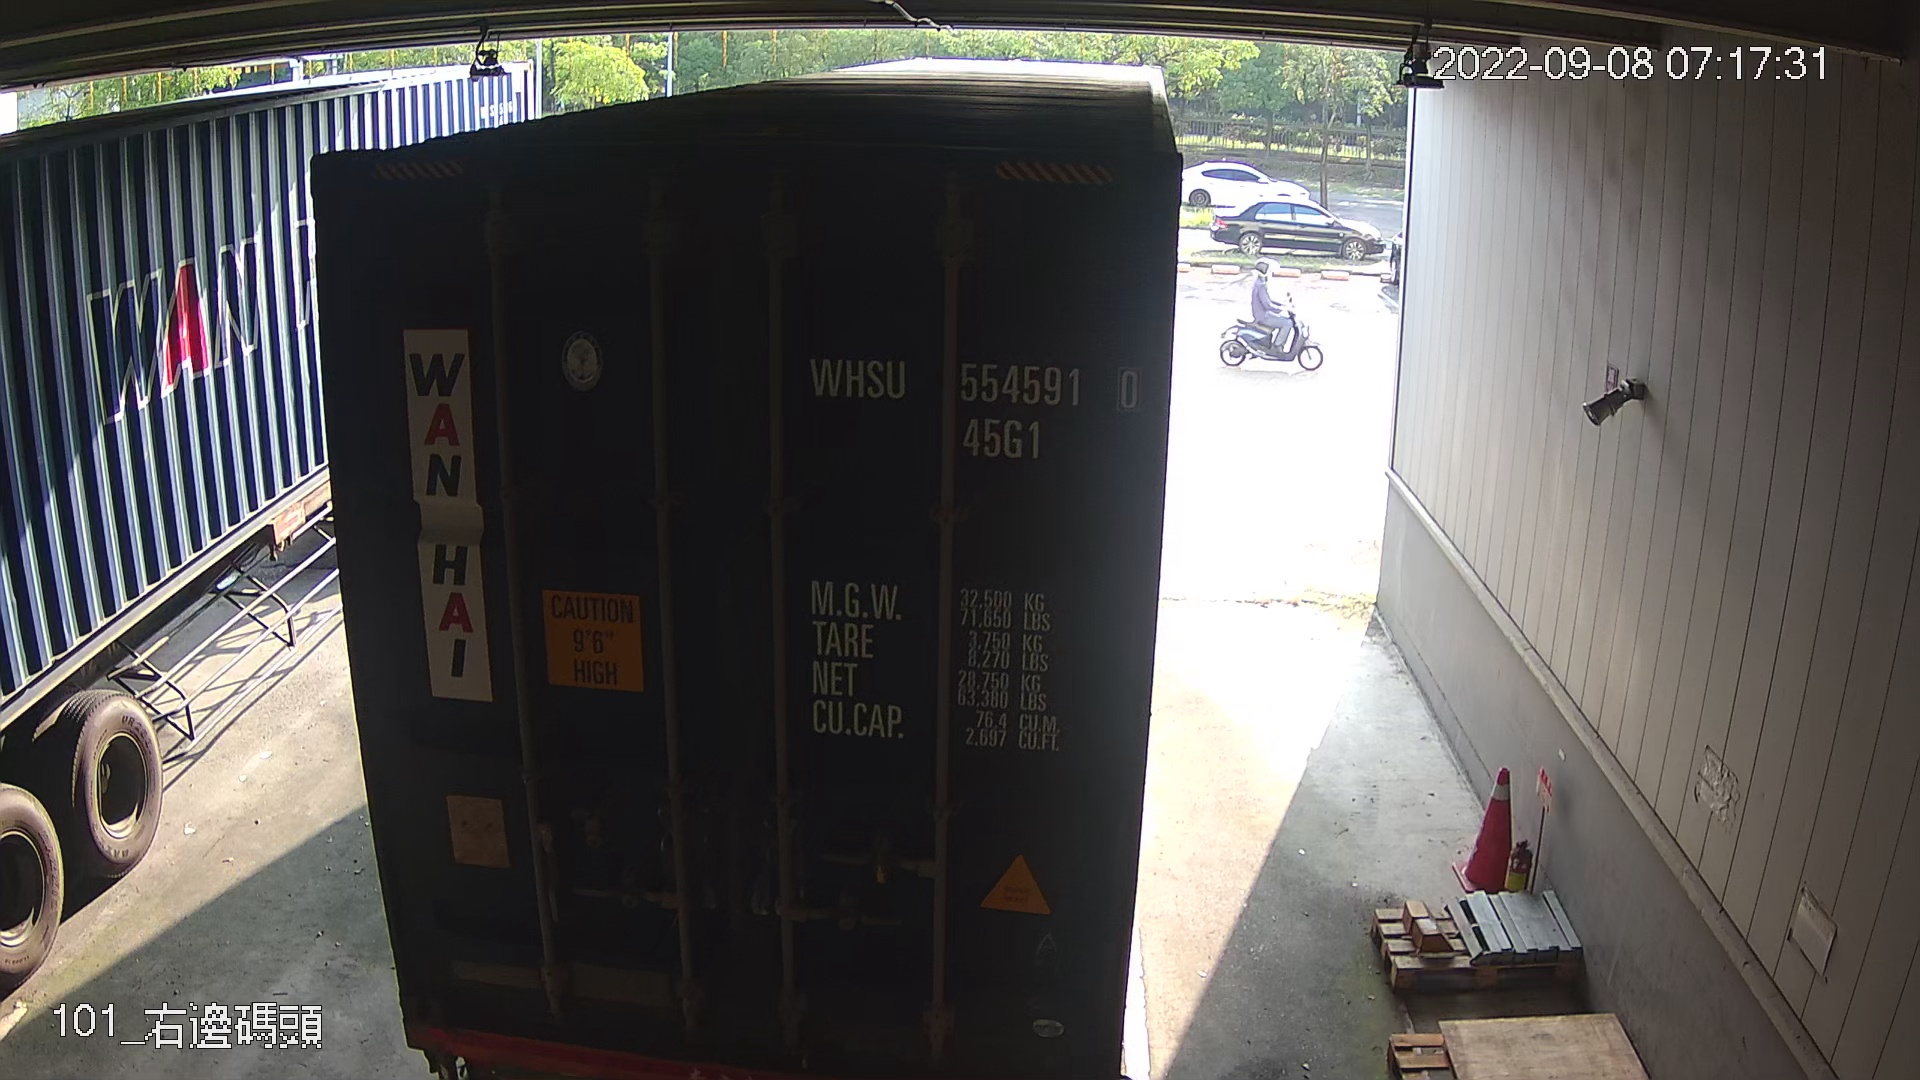container: (798, 339, 1151, 464)
